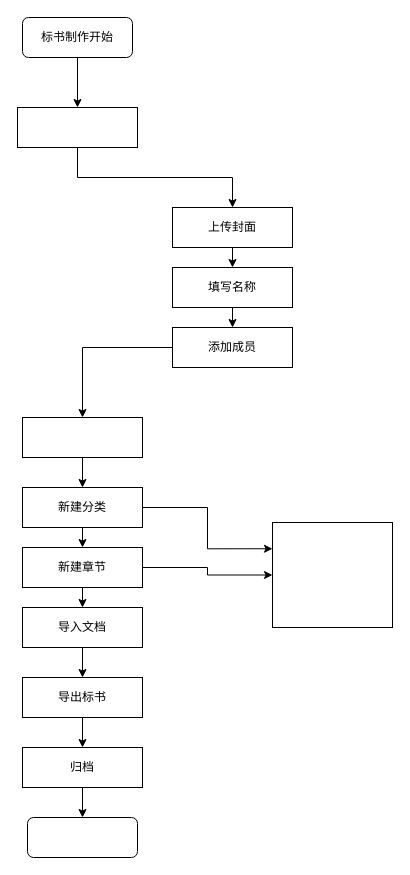
The diagram is 410 pixels wide and 875 high, and some of its shapes have lost their labels. The centre of each missing label's shape, as x and y in pixels:
创建标书: [77,127]
制作标书: [82,437]
可分配给不同的成员完成.成员可以接受邀请信息，管理员可以查看完成情况: [332,575]
流程结束: [82,837]
